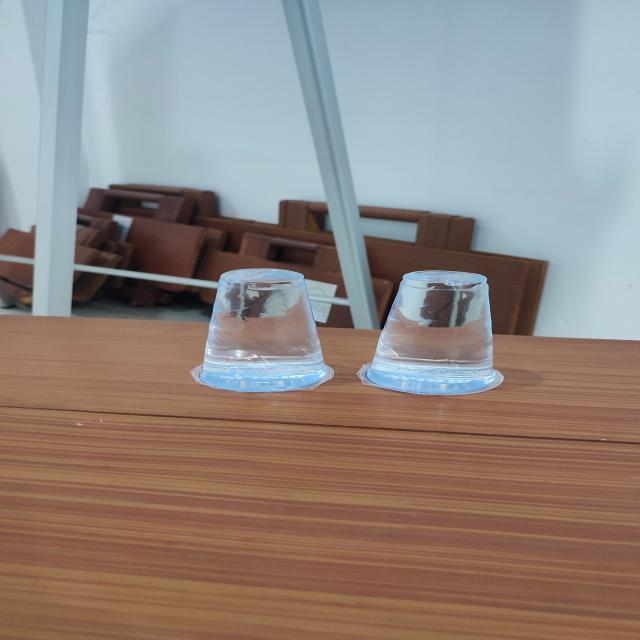air gelas: (359, 262, 516, 407), (185, 262, 340, 400)
